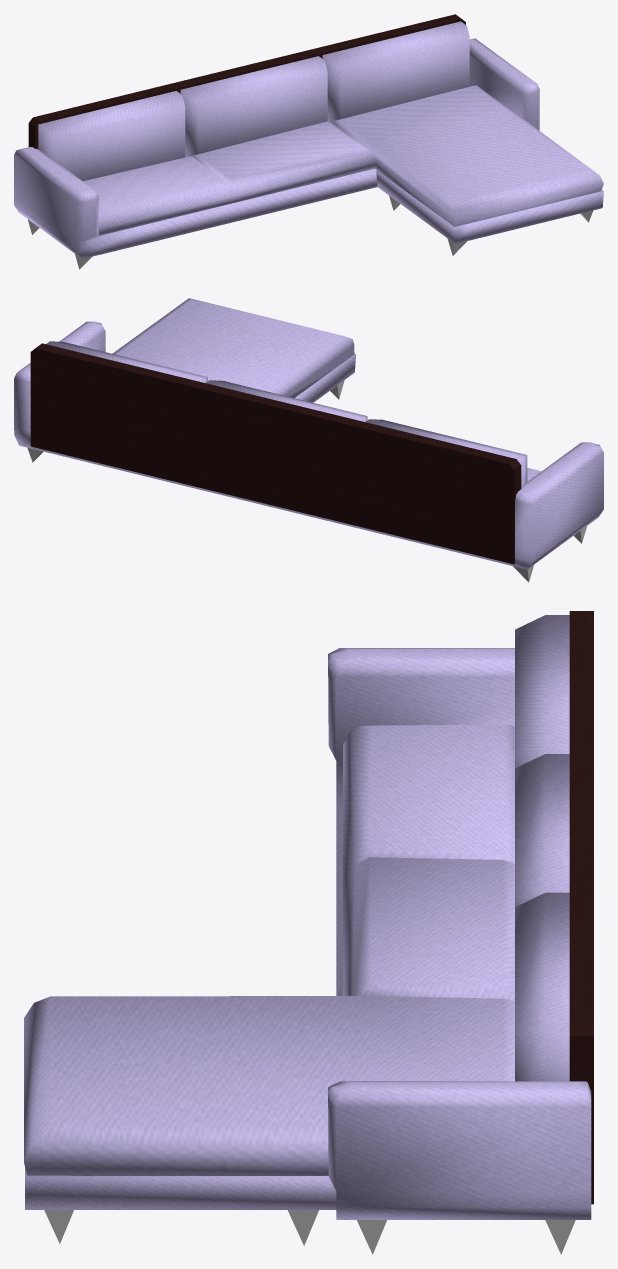
File: Chaise_Sofa_A_01.FBX
3 views of the same model, one above another, from view 1: azimuth 30°, elevation 25°; view 2: azimuth 150°, elevation 25°; view 3: azimuth 270°, elevation 25° (orthographic). The views are drawn at different scales.
Visible parts, largest first — view 1: Chaise_Sofa_A; view 2: Chaise_Sofa_A; view 3: Chaise_Sofa_A.
Part boxes in pixels (x1,y1,x2,y2): Chaise_Sofa_A: [14, 14, 603, 269]; Chaise_Sofa_A: [14, 298, 603, 582]; Chaise_Sofa_A: [24, 611, 593, 1254].
Size of the model in its own units: 685 by 157 by 366.
